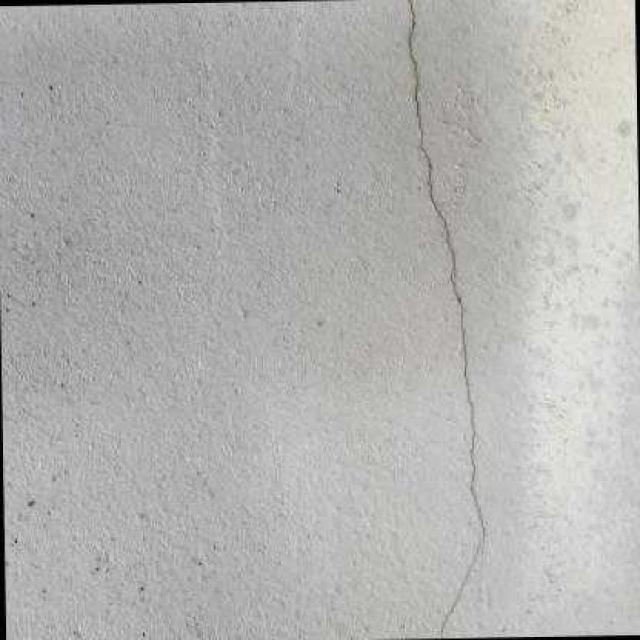D00: (415, 84, 455, 277), (462, 327, 484, 592), (440, 537, 482, 638), (451, 268, 462, 330), (408, 28, 418, 76), (408, 0, 414, 32), (413, 69, 418, 86)
